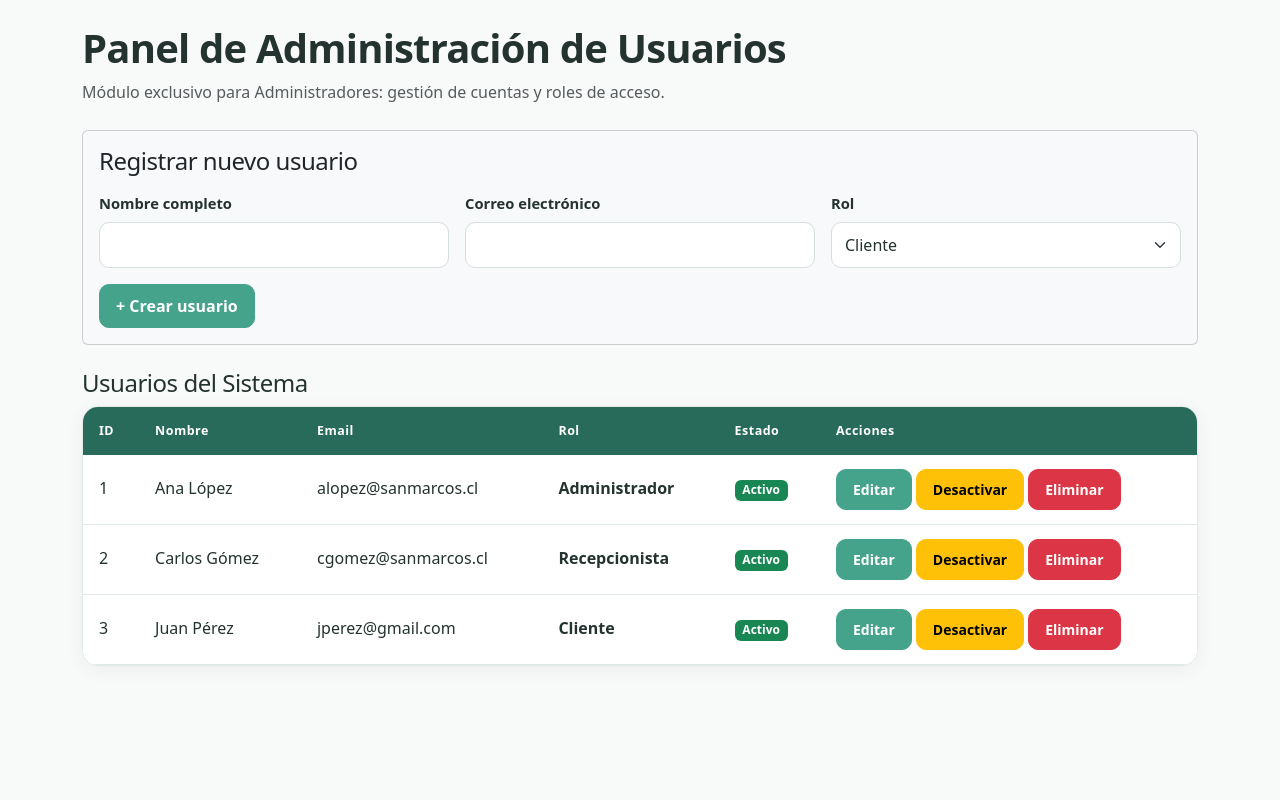
UsuariosPage › edita un usuario existente
Click the button with aria-label "Editar Juan Pérez" at (874, 629), box [836, 609, 912, 650]
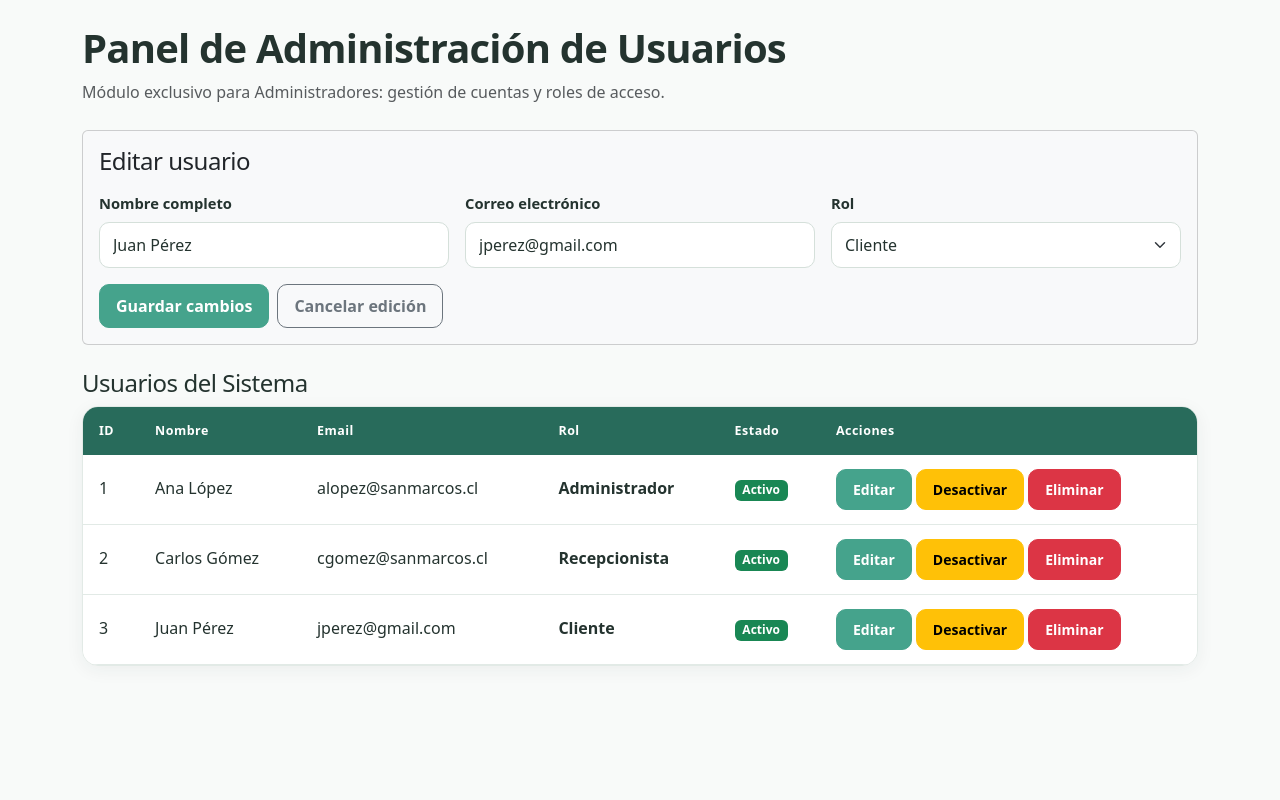
Check: the dropdown labelled "Rol" shows "Cliente", box [831, 222, 1181, 268]
Check: the field labelled "Nombre completo" holds "Juan Pérez"
Replace the text in the field labelled "Nombre completo" with "Juan Pérez Soto" at (274, 245), box [99, 222, 449, 268]
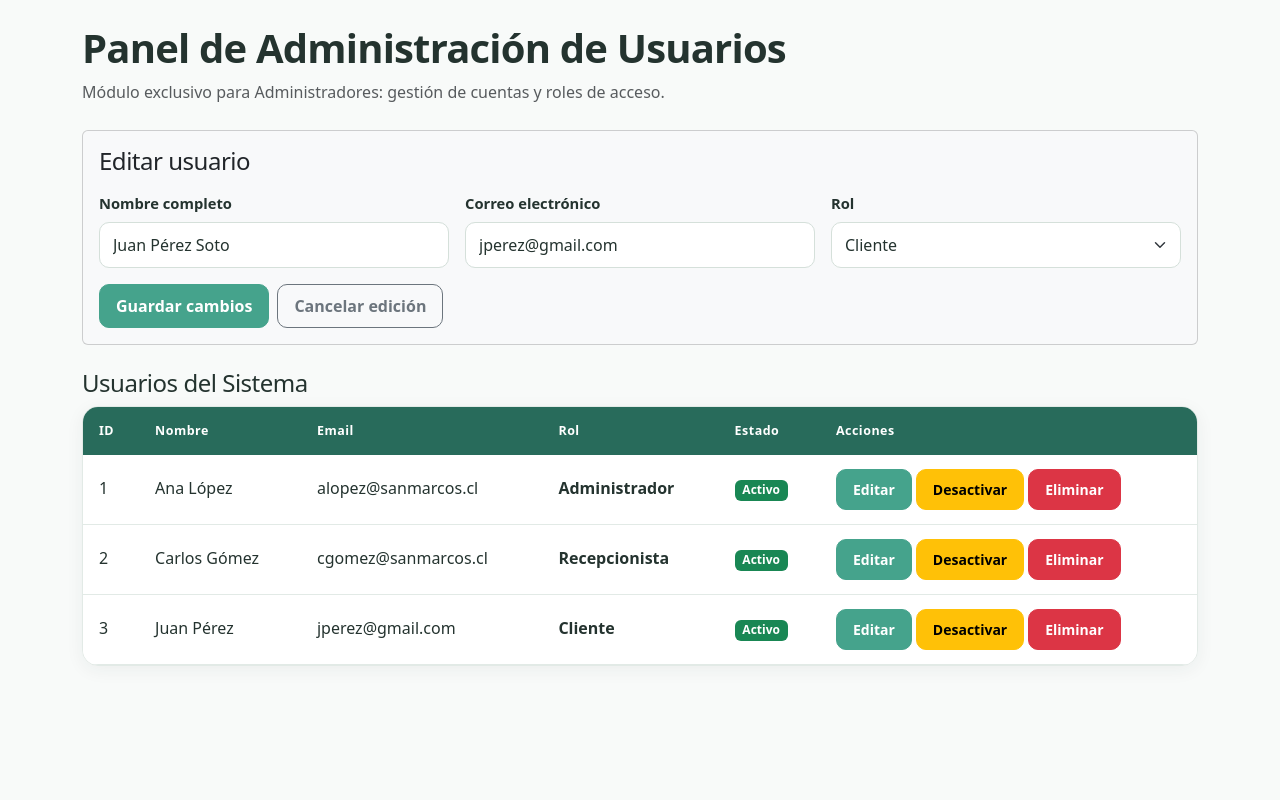
Select "Administrador" in the dropdown labelled "Rol" at (1006, 245), box [831, 222, 1181, 268]
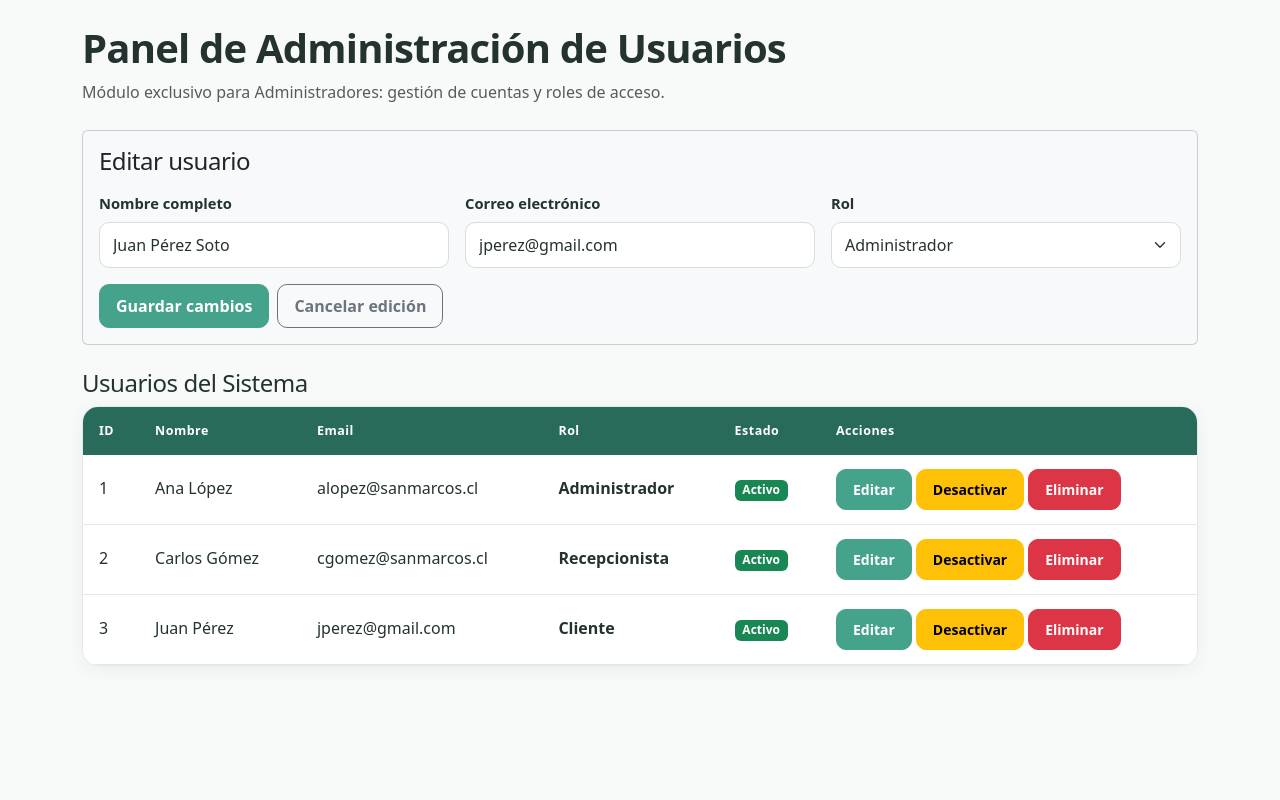
Click the button "Guardar cambios" at (184, 306), box [99, 284, 269, 328]
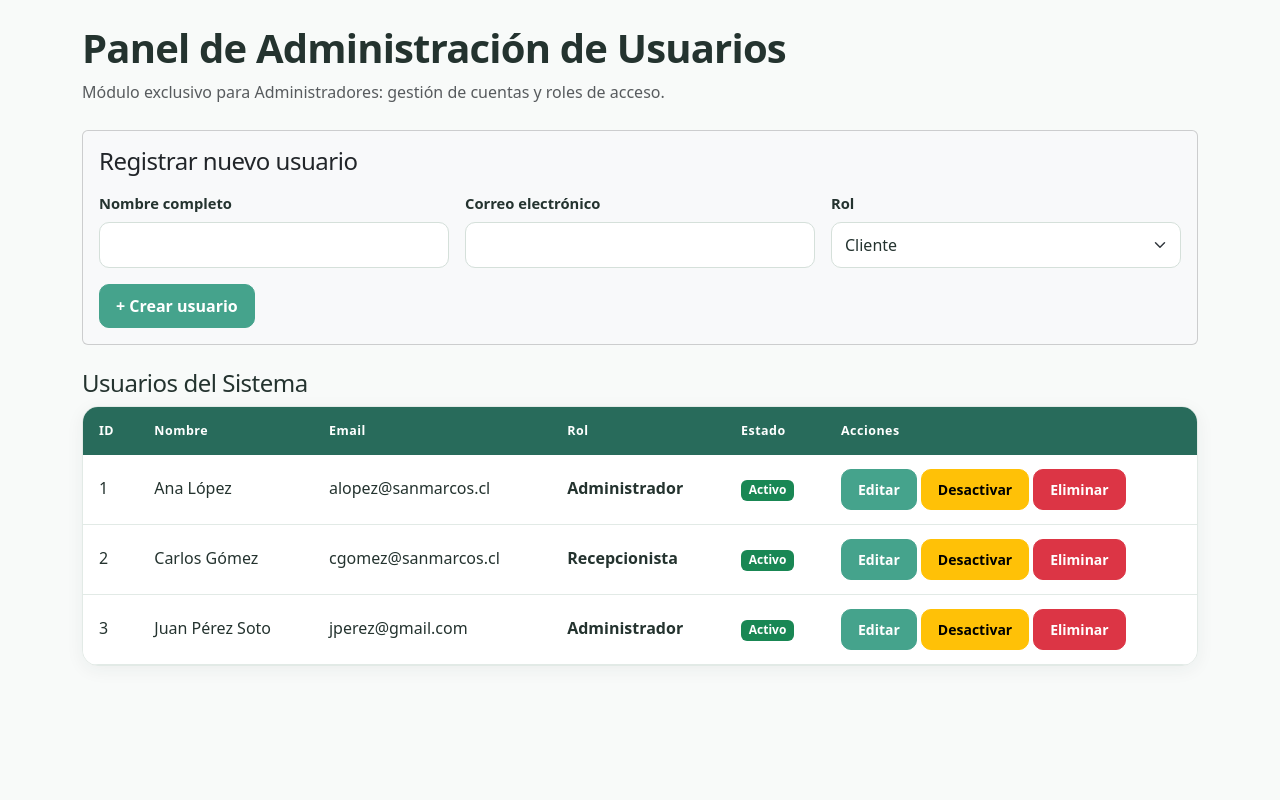
Check: the number of rows is 4, box [83, 407, 1197, 455]; [83, 455, 1197, 524]; [83, 524, 1197, 594]; [83, 594, 1197, 664]
Check: the text "Administrador" in the row of "Juan Pérez Soto" is shown, box [567, 617, 683, 639]
